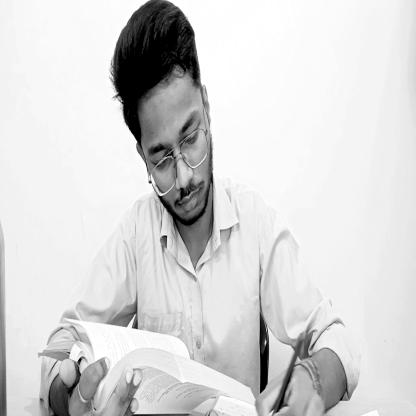Distracted: (112, 3, 218, 235)
